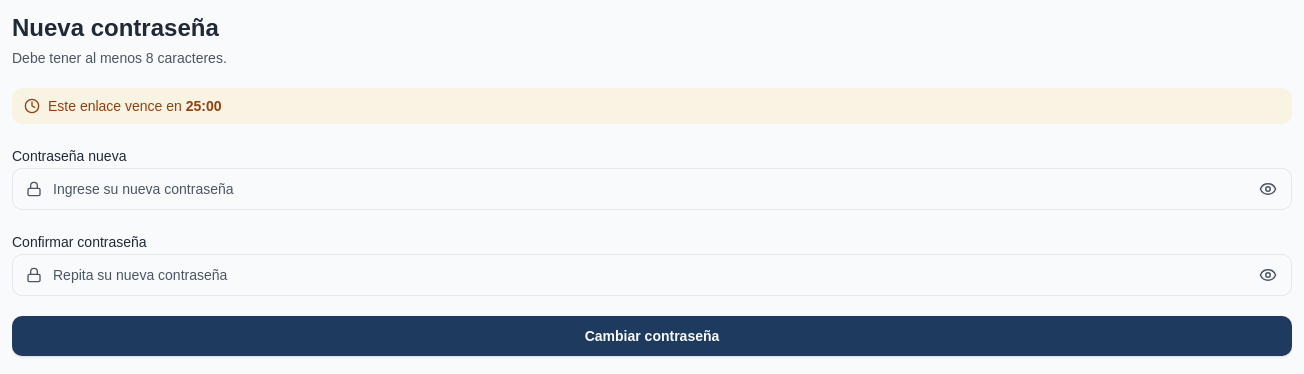
Test case: ResetPasswordPage: a dónde vuelve cada persona › si el enlace se vence mientras la cuenta es de un cliente, el aviso lo manda a ingresar
Step 1. Type "ClaveNueva123" into the password field labelled "Contraseña nueva" → (652, 189), box 12,168 -> 1292,210
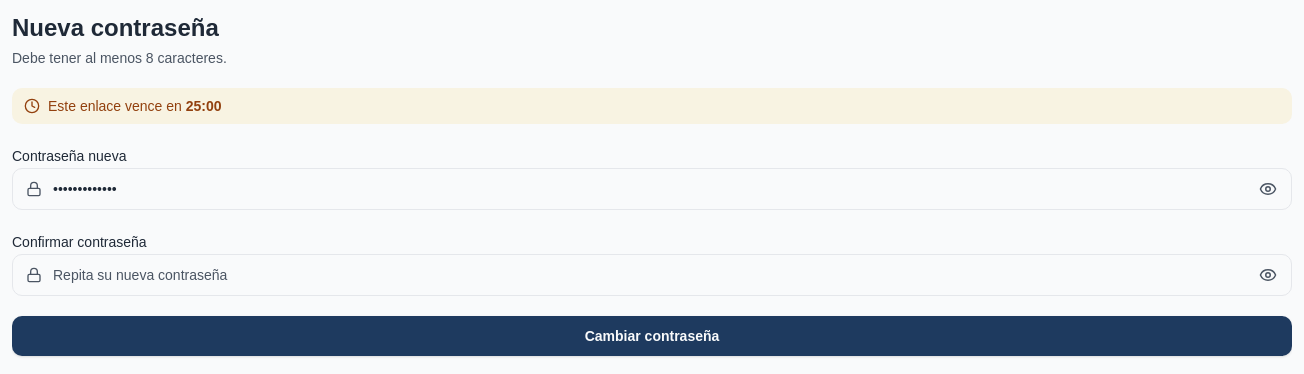
Step 2. Type "ClaveNueva123" into the password field labelled "Confirmar contraseña" → (652, 275), box 12,254 -> 1292,296
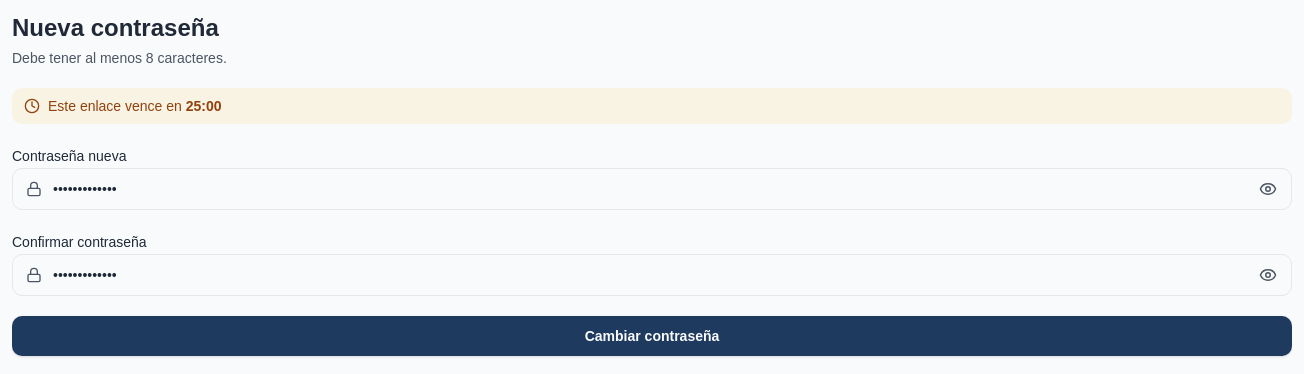
Step 3. Click the button "Cambiar contraseña" → click(652, 336), box 12,316 -> 1292,356
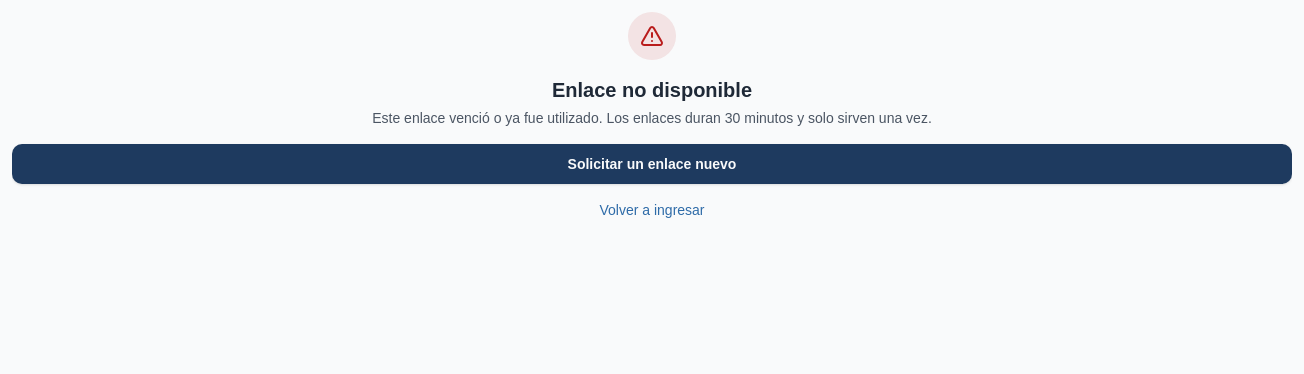
Check: the heading "Enlace no disponible" is shown, box 552,79 -> 752,101
